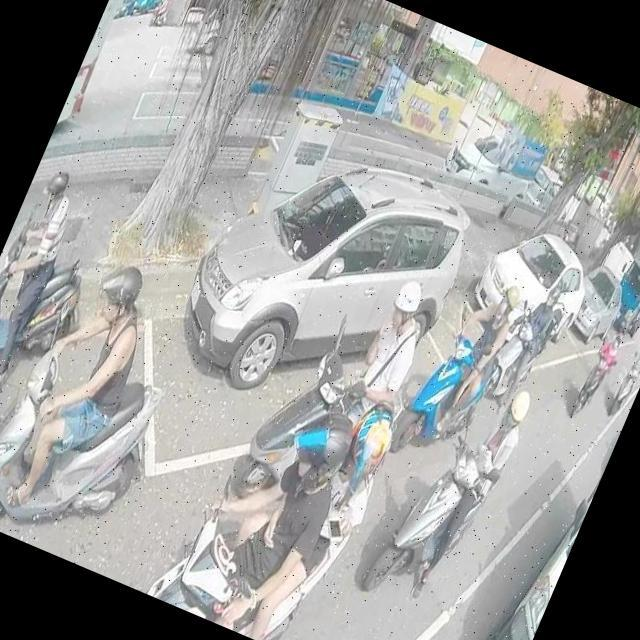person: (202, 374, 403, 640), (162, 379, 364, 640), (0, 240, 173, 534), (400, 368, 538, 612), (0, 160, 92, 389), (332, 272, 446, 448), (418, 264, 526, 440), (489, 280, 572, 416), (575, 330, 624, 412), (614, 337, 640, 405), (152, 0, 173, 22)
